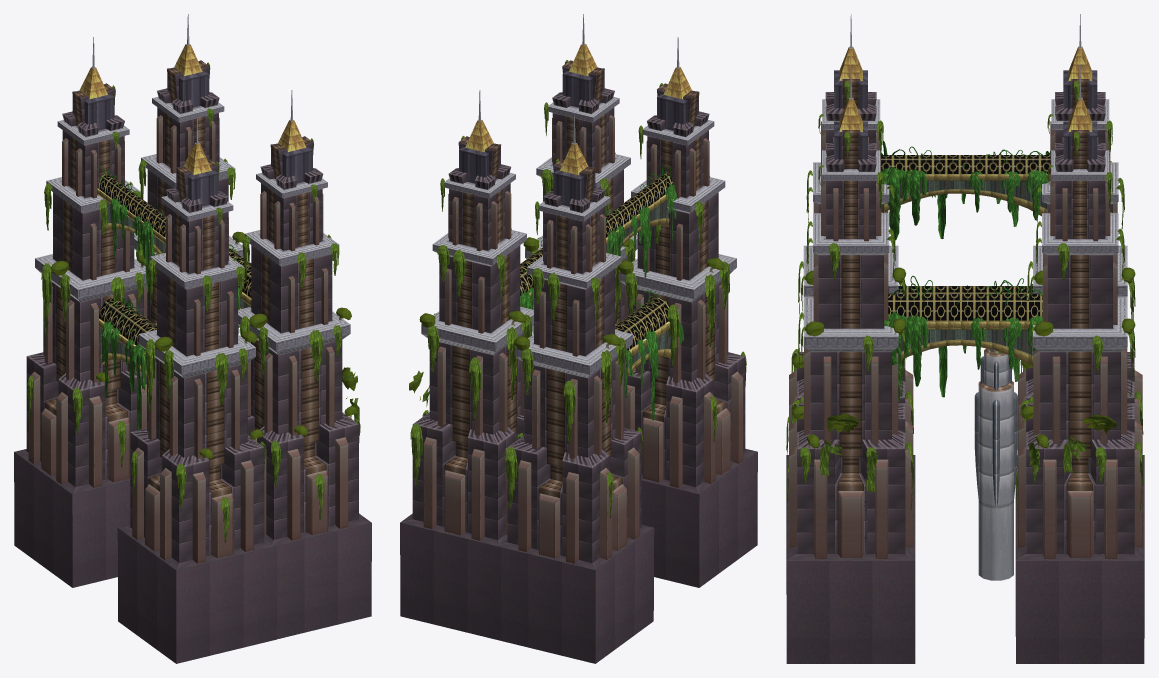
Rendered from Kerwan_Edificio2.gltf.
The picture shows the model from 3 angles, left to right: view 1: azimuth 30°, elevation 25°; view 2: azimuth 150°, elevation 25°; view 3: azimuth 270°, elevation 25°; orthographic projection. The views are drawn at different scales.
Parts seen in each view (by area): view 1: edificio2; view 2: edificio2; view 3: edificio2.
Boxes of the visible parts, x1,y1,x2,y2 form: edificio2: [14, 14, 371, 663]; edificio2: [400, 14, 757, 663]; edificio2: [786, 14, 1144, 663].
Size of the model in its own units: 6.76 by 16.55 by 9.4.
Materials: 33 (33 with a texture image).
